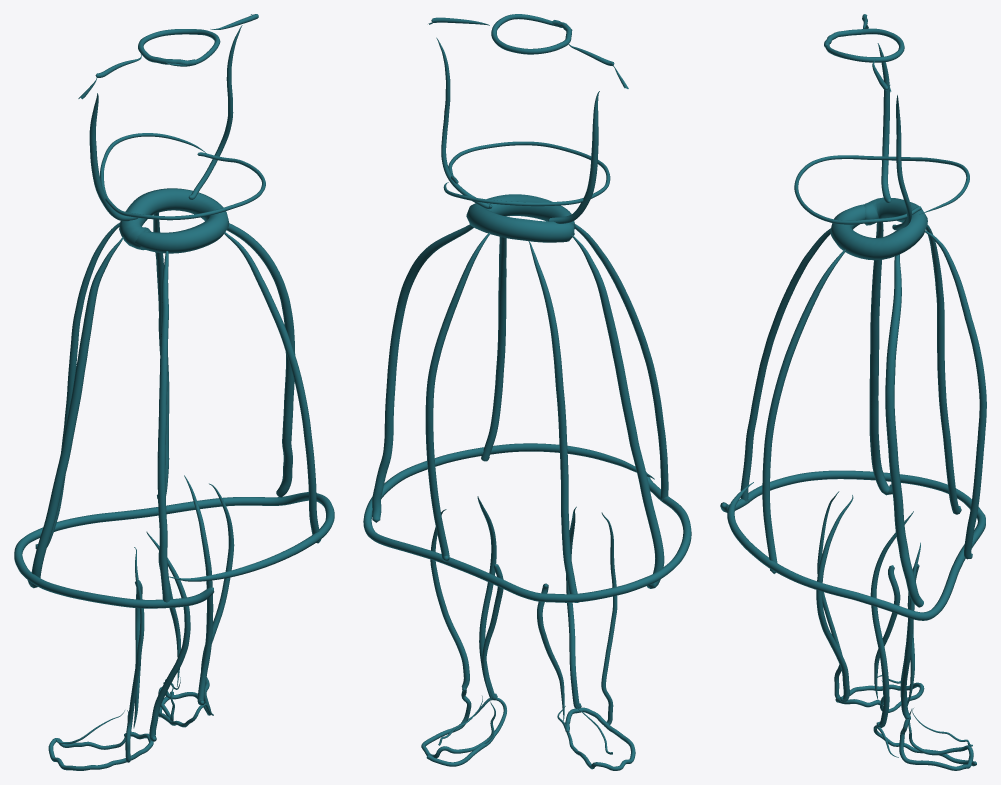
File: mollonkaBody.fbx
3 renders of one model, left to right at view 1: azimuth 30°, elevation 25°; view 2: azimuth 150°, elevation 25°; view 3: azimuth 270°, elevation 25°, orthographic.
Parts seen in each view (by area): view 1: Untitled_45_Toon_geo; view 2: Untitled_45_Toon_geo; view 3: Untitled_45_Toon_geo.
Part boxes in pixels (<box>): Untitled_45_Toon_geo: <box>14,14,334,770</box>; Untitled_45_Toon_geo: <box>363,14,691,770</box>; Untitled_45_Toon_geo: <box>720,14,986,770</box>.
Size of the model in its own units: 9.95 by 23.23 by 7.91.
